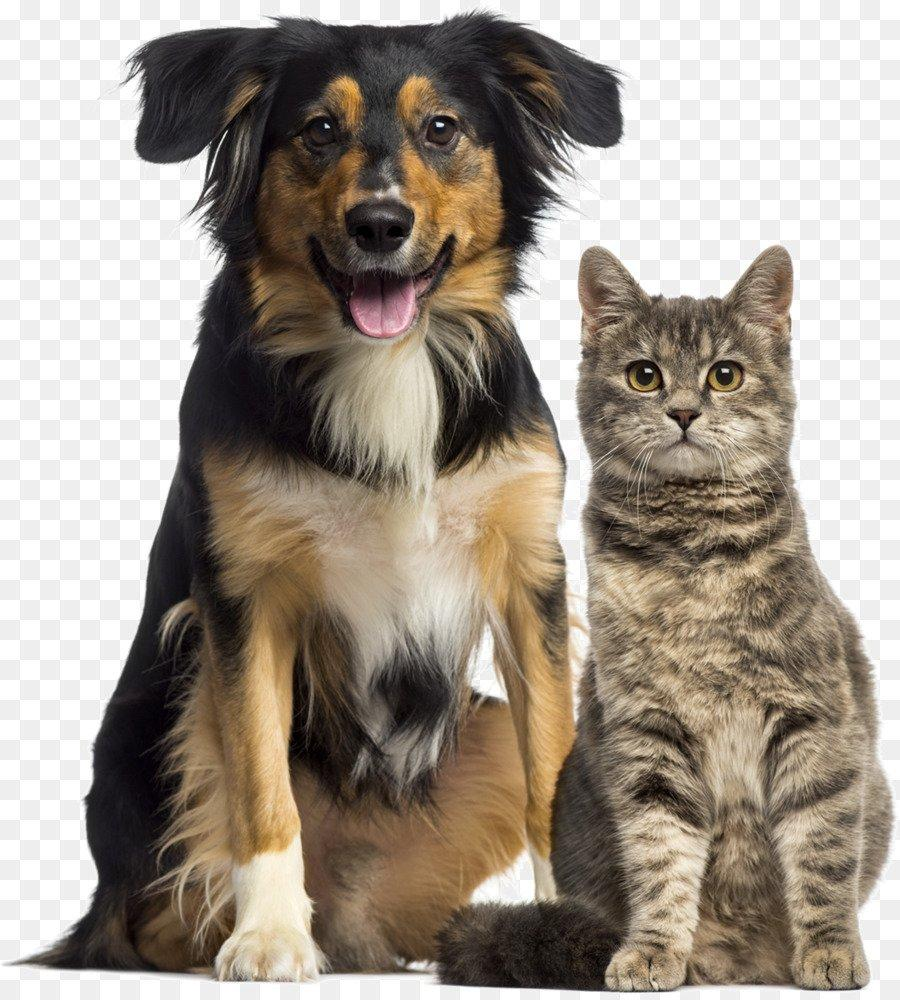animals: (111, 10, 616, 1000), (573, 240, 900, 1000)
